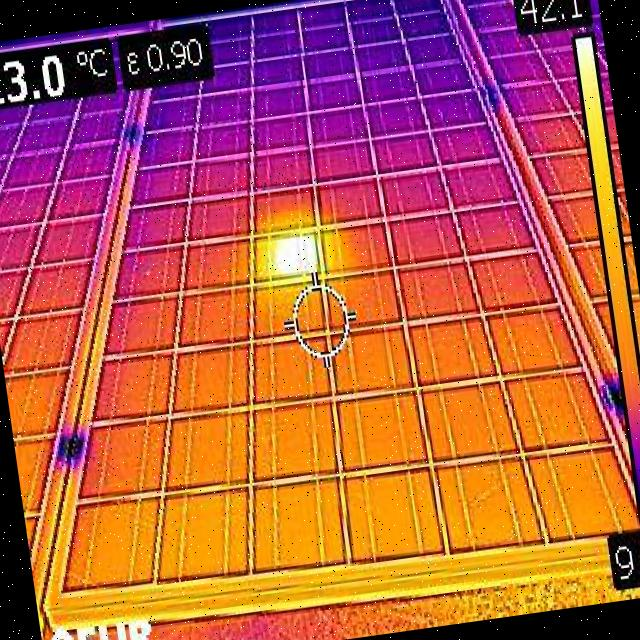Hotspot: (255, 230, 322, 283)
